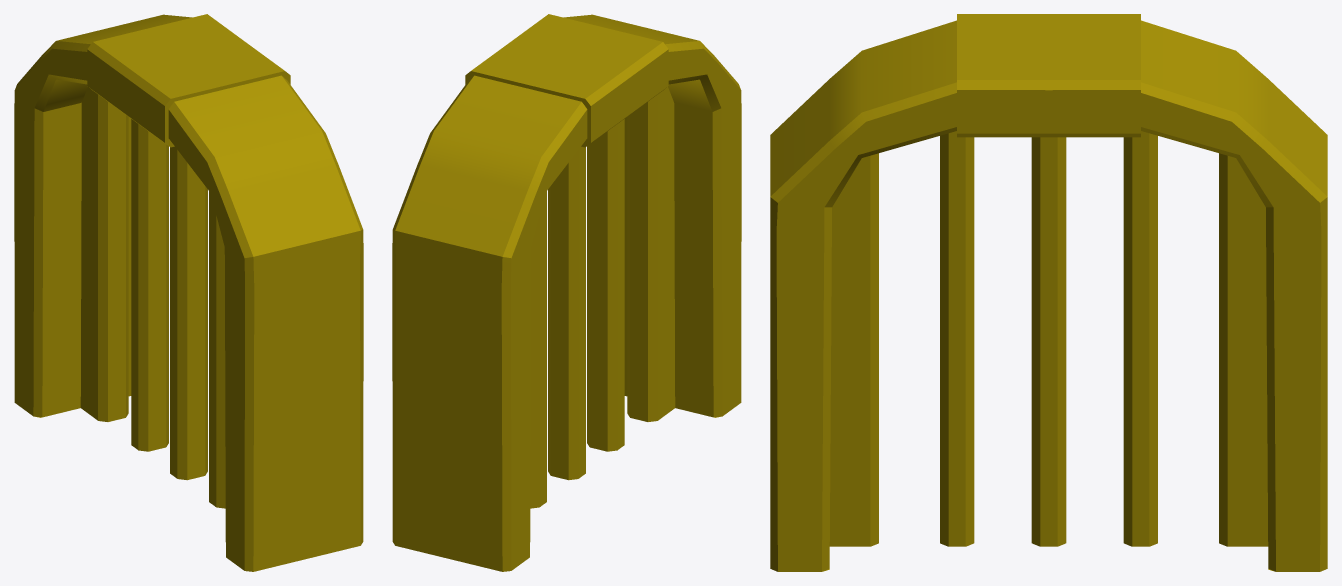
File: Water Gate.fbx
3 renders of one model, left to right at view 1: azimuth 30°, elevation 25°; view 2: azimuth 150°, elevation 25°; view 3: azimuth 270°, elevation 25°, orthographic. The views are drawn at different scales.
Visible parts, largest first — view 1: pCube1; view 2: pCube1; view 3: pCube1.
Boxes of the visible parts, bbox=[...] form: pCube1: bbox=[14, 14, 363, 571]; pCube1: bbox=[392, 14, 741, 571]; pCube1: bbox=[770, 14, 1327, 571].
Size of the model in its own units: 63.85 by 202 by 208.
